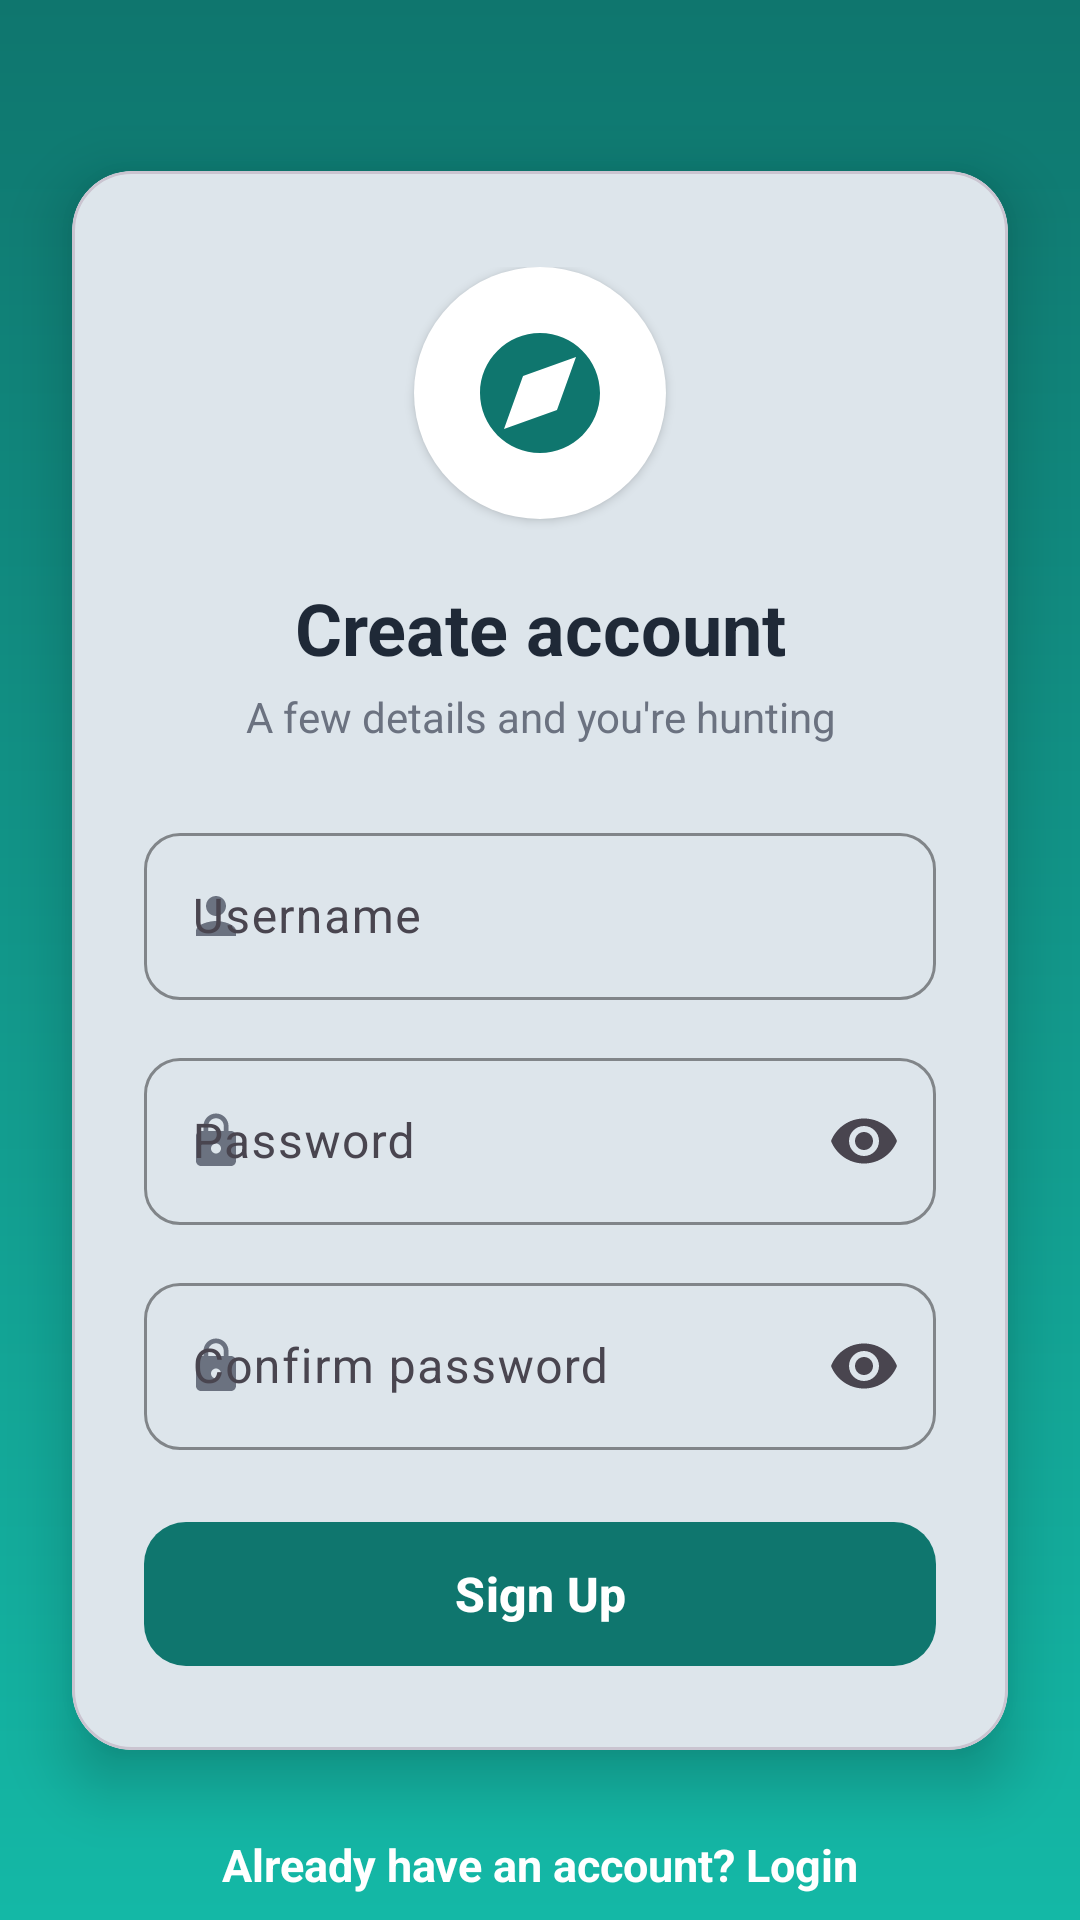

Named icons in this screenshot (1080px x 1920px) and their bounding boxes, (x1, y1, x2, y2):
compass: (480, 333, 600, 453)
